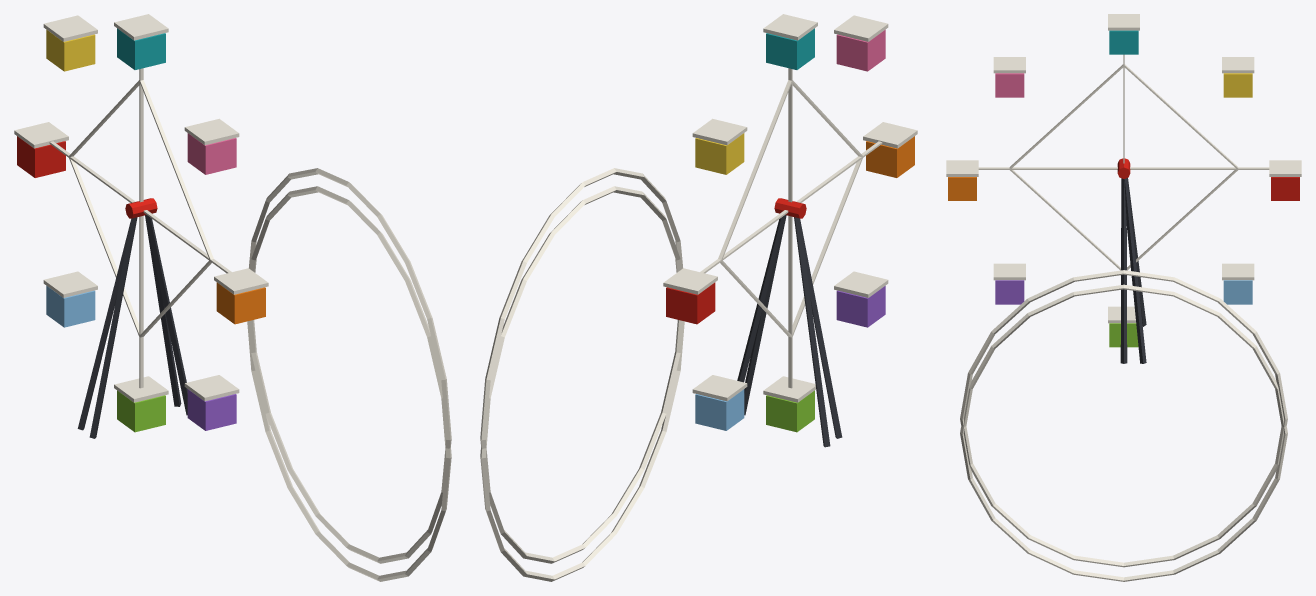
Rendered from ferris_wheel.glb.
3 views of the same model, side by side, from view 1: azimuth 30°, elevation 25°; view 2: azimuth 150°, elevation 25°; view 3: azimuth 270°, elevation 25° (orthographic). The views are drawn at different scales.
Parts seen in each view (by area): view 1: ferris_wheel; view 2: ferris_wheel; view 3: ferris_wheel.
Part boxes in pixels (x1=…): ferris_wheel: x1=14, y1=14, x2=451, y2=581; ferris_wheel: x1=480, y1=14, x2=917, y2=581; ferris_wheel: x1=946, y1=14, x2=1301, y2=581.
Size of the model in its own units: 7.58 by 16.38 by 11.
